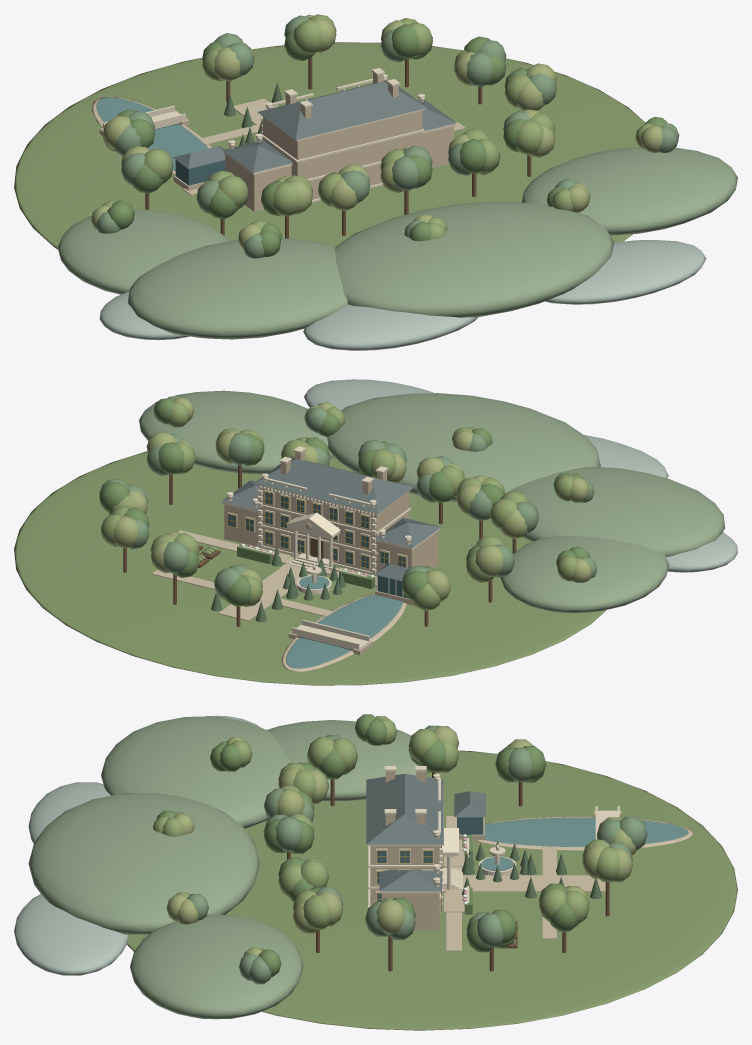
Rendered from estate.glb.
The picture shows the model from 3 angles, top to bottom: view 1: azimuth 30°, elevation 25°; view 2: azimuth 150°, elevation 25°; view 3: azimuth 270°, elevation 25°; orthographic projection. The views are drawn at different scales.
Parts seen in each view (by area): view 1: Meadow, Distant rise.001, Distant rise, Distant rise.002, Distant rise.003, Main house, Distant rise.005, Distant rise.004, Hipped slate roof, Lake, Distant rise.006, Hipped slate roof.001 (+21 smaller); view 2: Meadow, Distant rise.001, Distant rise, Distant rise.003, Distant rise.002, Hipped slate roof, Main house, Lake, Distant rise.005, Distant rise.006, Distant rise.004, Main walk (+25 smaller); view 3: Meadow, Distant rise.001, Distant rise.002, Distant rise, Distant rise.005, Distant rise.003, Hipped slate roof, Lake, Distant rise.004, Main walk, Hipped slate roof.002, Main house (+23 smaller).
Part boxes in pixels (<box>): Meadow: <box>14,42,645,249</box>; Distant rise.001: <box>335,201,614,317</box>; Distant rise: <box>127,238,348,339</box>; Distant rise.002: <box>521,147,737,235</box>; Distant rise.003: <box>57,209,228,294</box>; Main house: <box>263,111,422,202</box>; Distant rise.005: <box>545,240,706,304</box>; Distant rise.004: <box>303,304,477,350</box>; Hipped slate roof: <box>257,79,427,139</box>; Lake: <box>96,97,208,170</box>; Distant rise.006: <box>99,292,189,340</box>; Hipped slate roof.001: <box>222,140,292,172</box>; Meadow: <box>14,451,606,685</box>; Distant rise.001: <box>327,393,600,501</box>; Distant rise: <box>505,466,725,556</box>; Distant rise.003: <box>500,536,669,612</box>; Distant rise.002: <box>139,390,333,474</box>; Hipped slate roof: <box>254,457,413,513</box>; Main house: <box>259,486,408,575</box>; Lake: <box>286,594,402,668</box>; Distant rise.005: <box>304,379,434,410</box>; Distant rise.006: <box>666,532,737,572</box>; Distant rise.004: <box>584,435,668,478</box>; Main walk: <box>218,563,311,621</box>; Meadow: <box>127,750,737,1030</box>; Distant rise.001: <box>28,793,259,934</box>; Distant rise.002: <box>130,914,303,1019</box>; Distant rise: <box>101,716,290,828</box>; Distant rise.005: <box>14,894,128,975</box>; Distant rise.003: <box>267,720,428,801</box>; Hipped slate roof: <box>366,773,443,844</box>; Lake: <box>483,817,688,846</box>; Distant rise.004: <box>28,782,110,843</box>; Main walk: <box>442,875,605,891</box>; Hipped slate roof.002: <box>379,870,441,890</box>; Main house: <box>370,846,439,906</box>.
Bounding box in the file's own units: 50 × 7.88 × 50.
